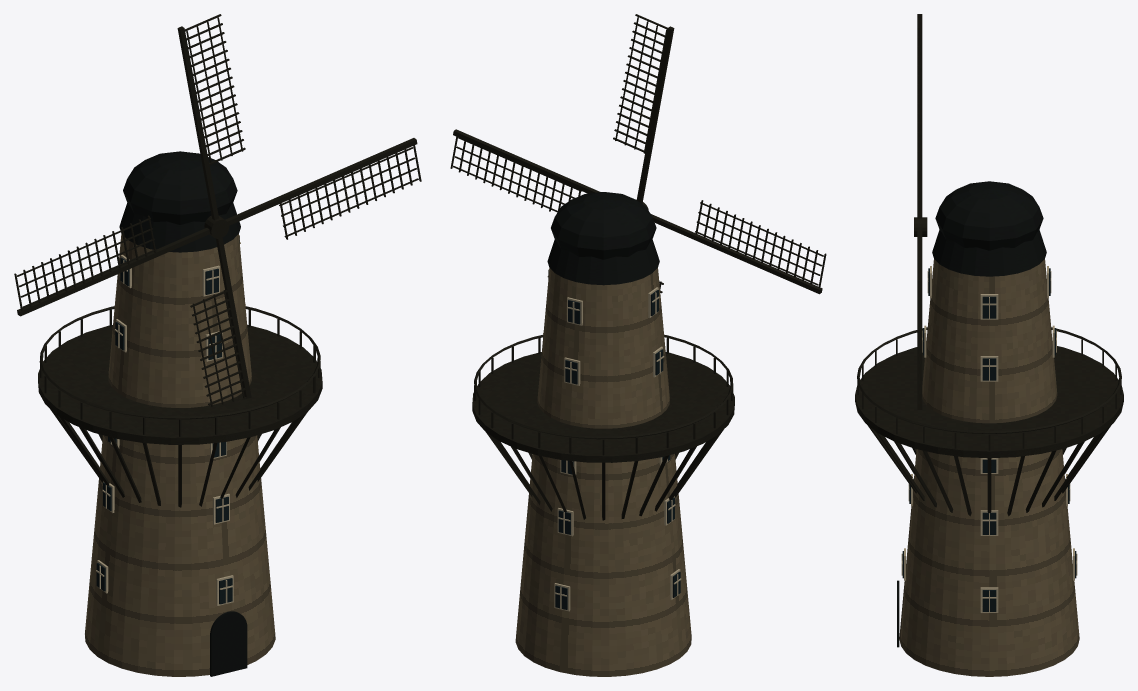
The picture shows the model from 3 angles, left to right: view 1: azimuth 30°, elevation 25°; view 2: azimuth 150°, elevation 25°; view 3: azimuth 270°, elevation 25°; orthographic projection. The views are drawn at different scales.
Visible parts, largest first — view 1: molen-de-noord-0, molen-de-noord-1, molen-de-noord-4, molen-de-noord-3, molen-de-noord-2; view 2: molen-de-noord-0, molen-de-noord-1, molen-de-noord-4, molen-de-noord-3, molen-de-noord-2; view 3: molen-de-noord-0, molen-de-noord-1, molen-de-noord-4, molen-de-noord-2, molen-de-noord-3.
Part boxes in pixels (x1,y1,x2,y2): molen-de-noord-0: [85, 234, 275, 676]; molen-de-noord-1: [14, 14, 421, 507]; molen-de-noord-4: [119, 151, 247, 676]; molen-de-noord-3: [96, 236, 244, 604]; molen-de-noord-2: [96, 235, 245, 605]; molen-de-noord-0: [515, 268, 691, 676]; molen-de-noord-1: [450, 14, 826, 520]; molen-de-noord-4: [547, 192, 659, 285]; molen-de-noord-3: [548, 270, 680, 609]; molen-de-noord-2: [543, 269, 681, 611]; molen-de-noord-0: [899, 259, 1079, 676]; molen-de-noord-1: [855, 14, 1123, 516]; molen-de-noord-4: [897, 181, 1046, 647]; molen-de-noord-2: [901, 266, 1077, 612]; molen-de-noord-3: [902, 268, 1076, 611].
Bounding box in the file's own units: 26.98 × 41.19 × 16.4.
5 materials, 5 textured.
